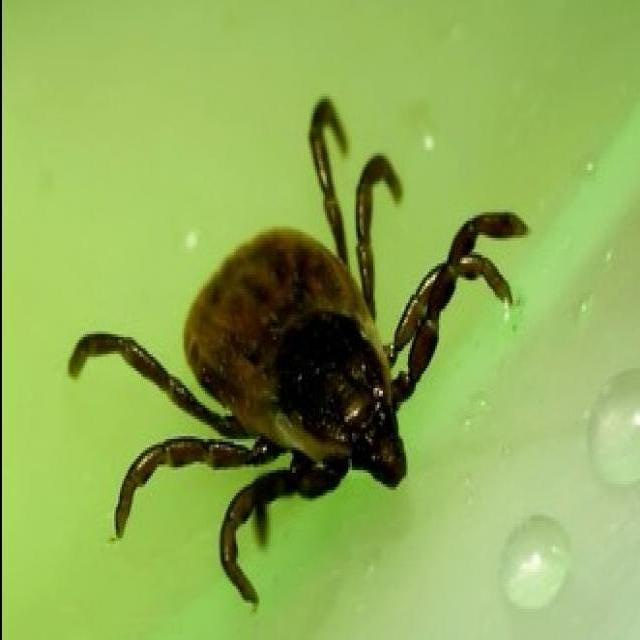Rhipicephalus Sanguineus-F: (64, 96, 526, 615)
